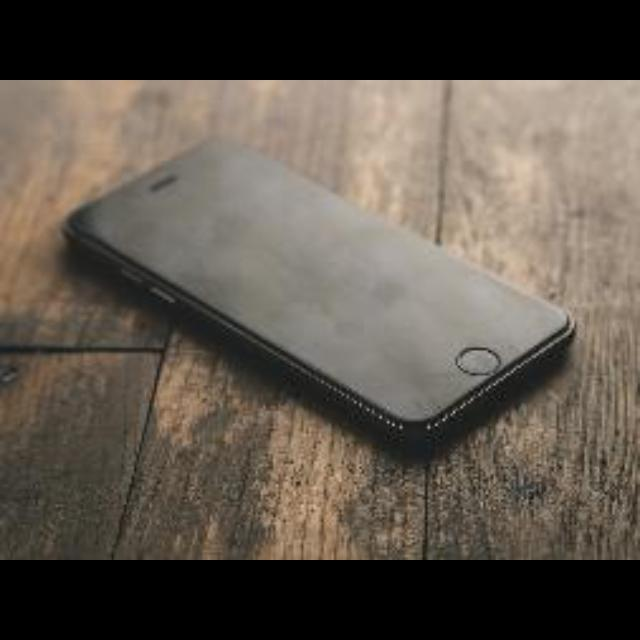phone: (11, 114, 595, 484)
